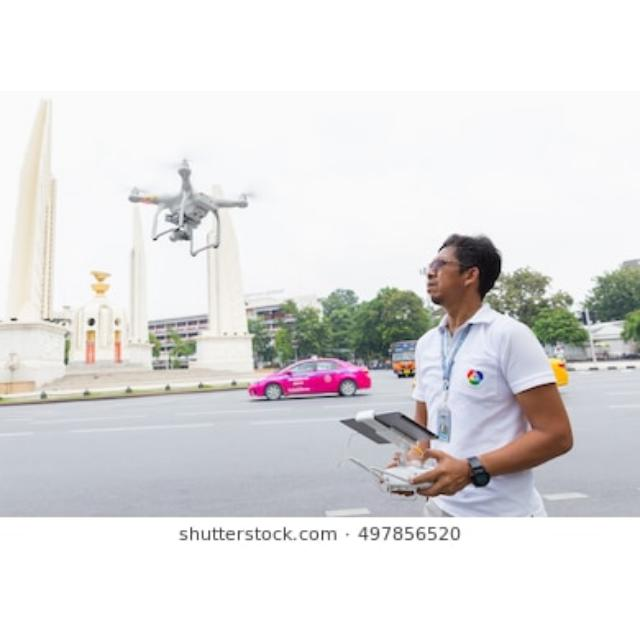Drones: (128, 162, 258, 255)
